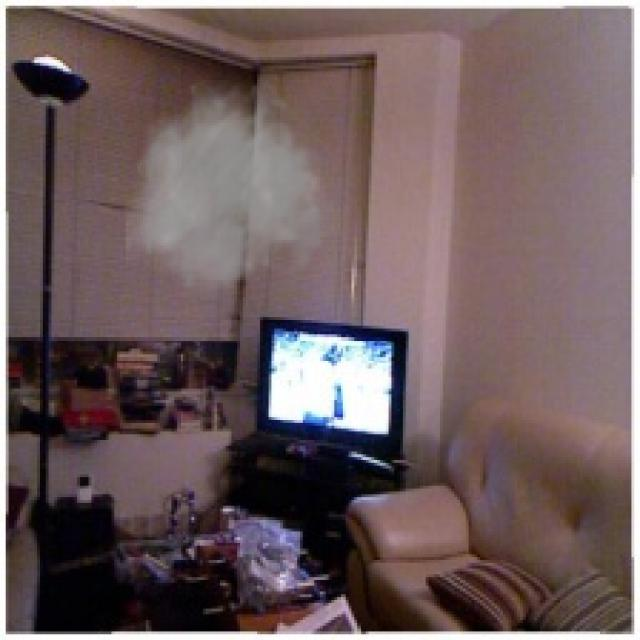smoke: (126, 74, 343, 303)
